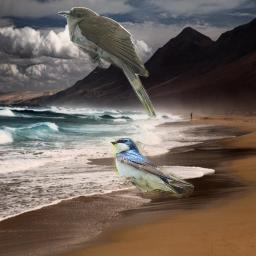Cuckoo: (58, 7, 156, 119)
Swallow: (110, 138, 194, 201)
